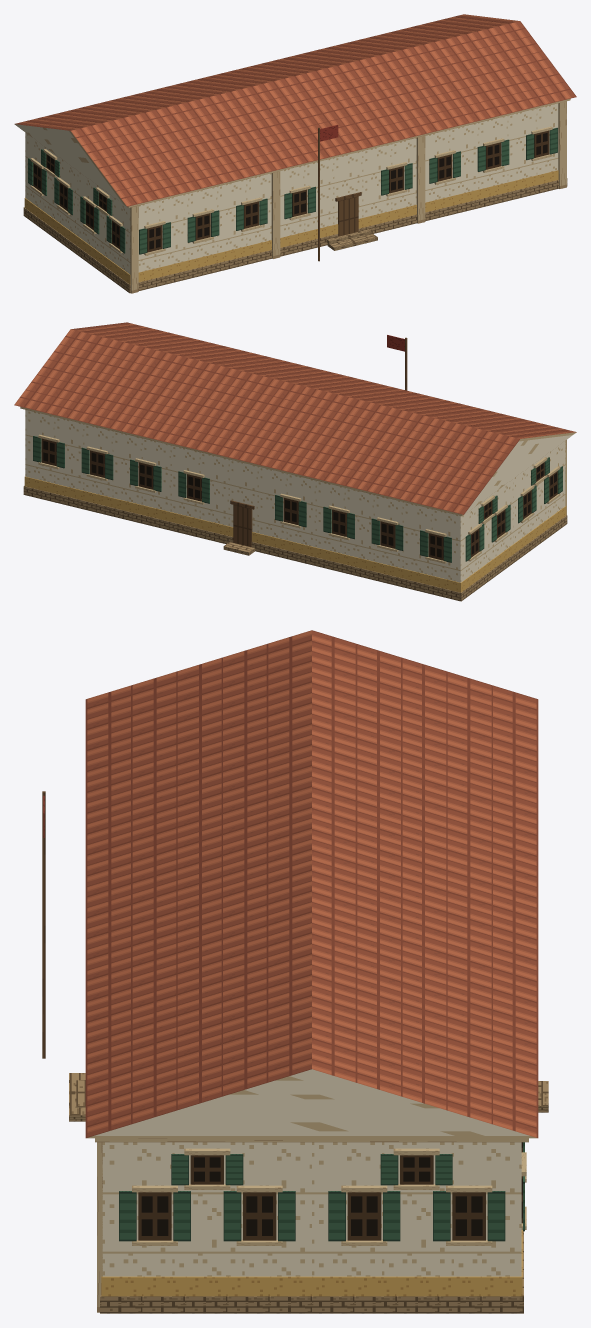
File: buildings-military.glb
3 renders of one model, top to bottom at view 1: azimuth 30°, elevation 25°; view 2: azimuth 150°, elevation 25°; view 3: azimuth 270°, elevation 25°, orthographic. The views are drawn at different scales.
Parts seen in each view (by area): view 1: barracks-block; view 2: barracks-block; view 3: barracks-block.
Part boxes in pixels (x1,y1,x2,y2): barracks-block: (14,14,576,293); barracks-block: (14,322,576,601); barracks-block: (42,630,548,1313).
Bounding box in the file's own units: 24.8 × 7 × 12.09.
1 material, 1 textured.
